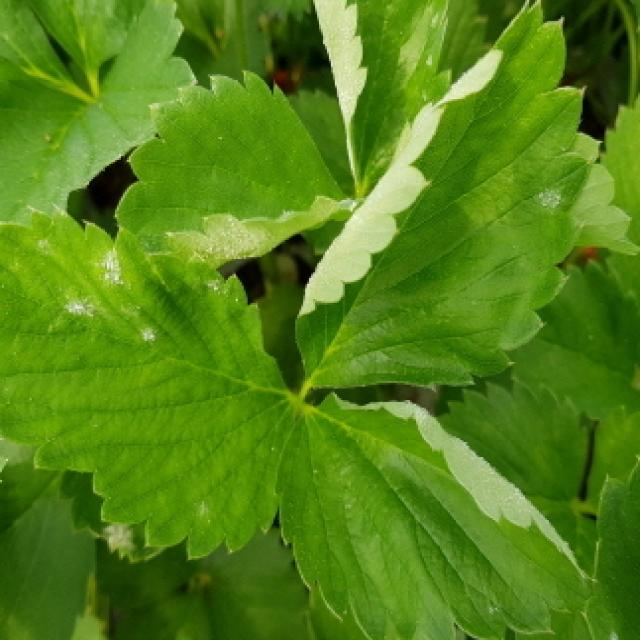Powdery Mildew Leaf: (292, 0, 591, 390), (0, 200, 299, 560), (274, 390, 595, 640), (113, 70, 360, 275), (313, 0, 456, 197), (579, 456, 640, 640)
